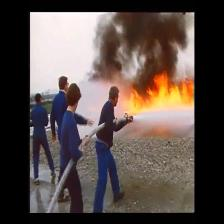fire: (126, 78, 194, 112)
smoke: (92, 13, 187, 76)
